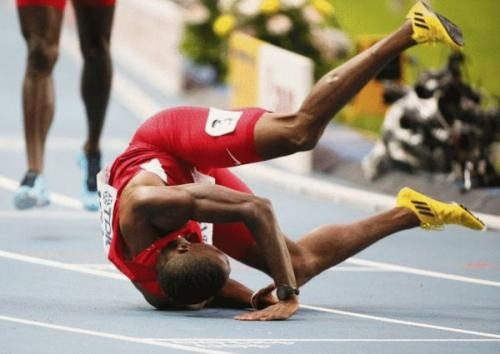falling: (94, 6, 471, 314)
